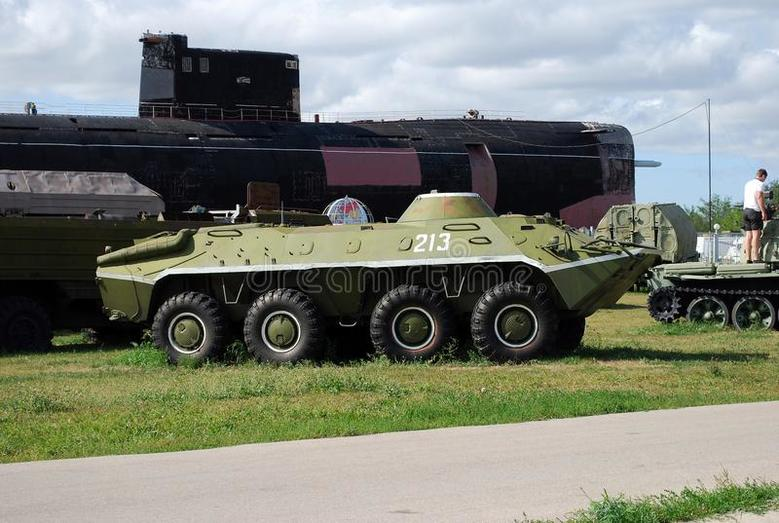btr: (99, 194, 648, 353)
